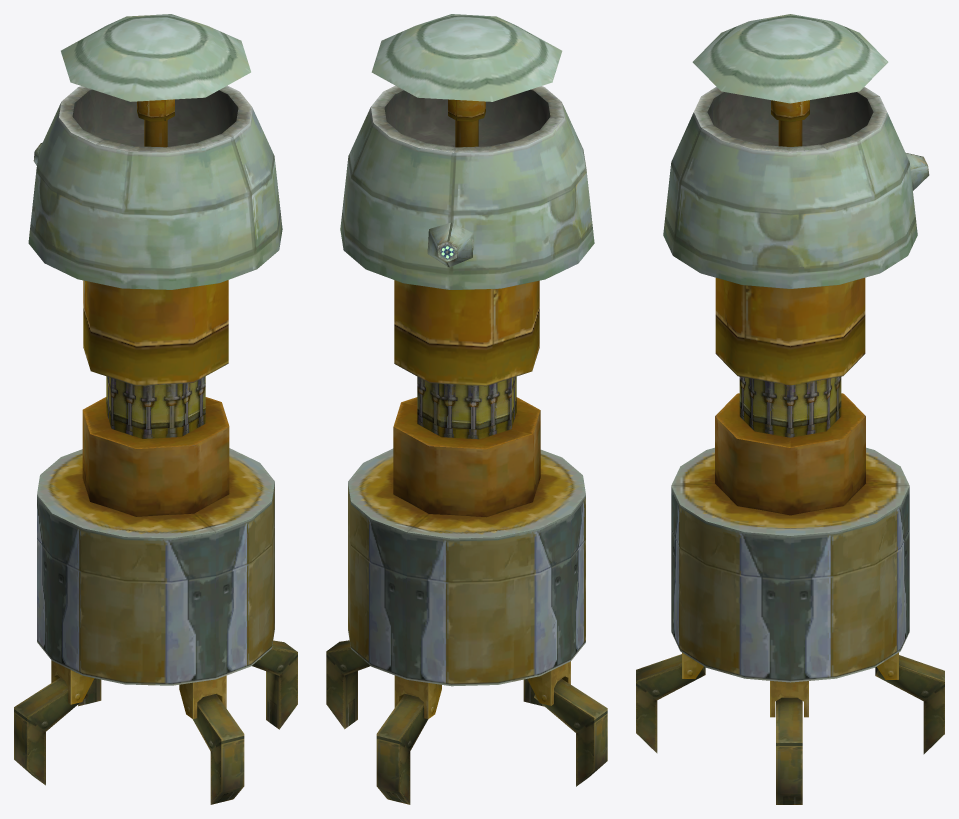
The model's file is all_item_tech_merchant_gadgets_03.glb.
The picture shows the model from 3 angles, left to right: view 1: azimuth 30°, elevation 25°; view 2: azimuth 150°, elevation 25°; view 3: azimuth 270°, elevation 25°; orthographic projection.
Parts seen in each view (by area): view 1: all_item_tech_merchant_gadgets_03; view 2: all_item_tech_merchant_gadgets_03; view 3: all_item_tech_merchant_gadgets_03.
Part boxes in pixels (x1,y1,x2,y2): all_item_tech_merchant_gadgets_03: (14,14,297,804); all_item_tech_merchant_gadgets_03: (326,14,607,804); all_item_tech_merchant_gadgets_03: (636,14,944,804).
Bounding box in the file's own units: 0.0719 × 0.185 × 0.0719.
1 material, 1 textured.
